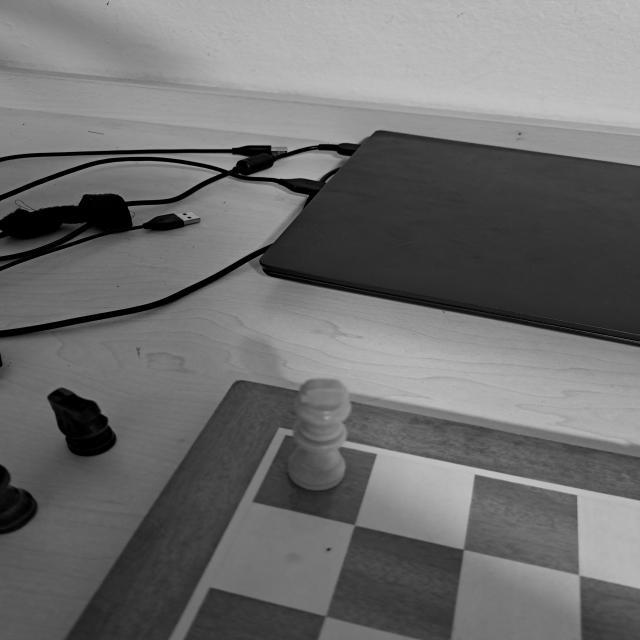chess-table-corners: (244, 414, 334, 458)
